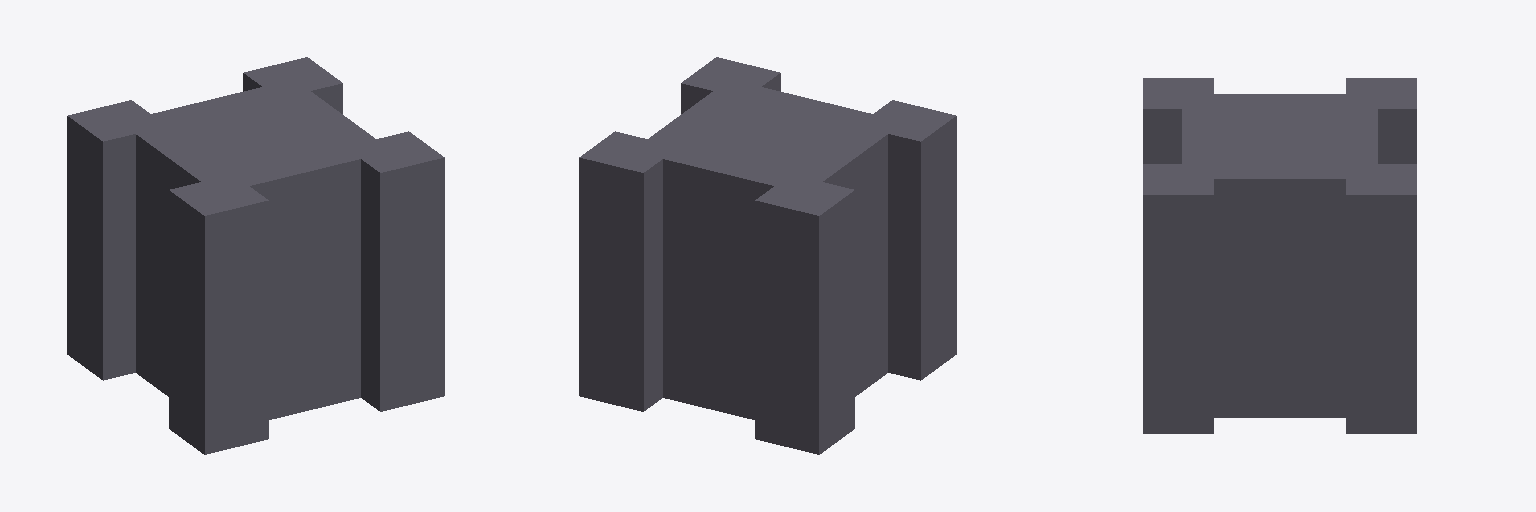
Rendered from block2.obj.
3 views of the same model, side by side, from view 1: azimuth 30°, elevation 25°; view 2: azimuth 150°, elevation 25°; view 3: azimuth 270°, elevation 25° (orthographic).
Size of the model in its own units: 16.39 by 15.58 by 16.23.